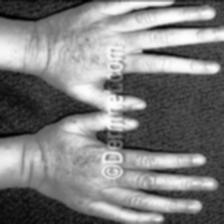Non-Cancerous Skin Condition: (70, 144, 104, 166)
